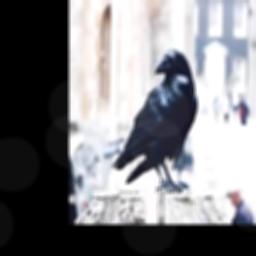Crow: (112, 47, 198, 193)
